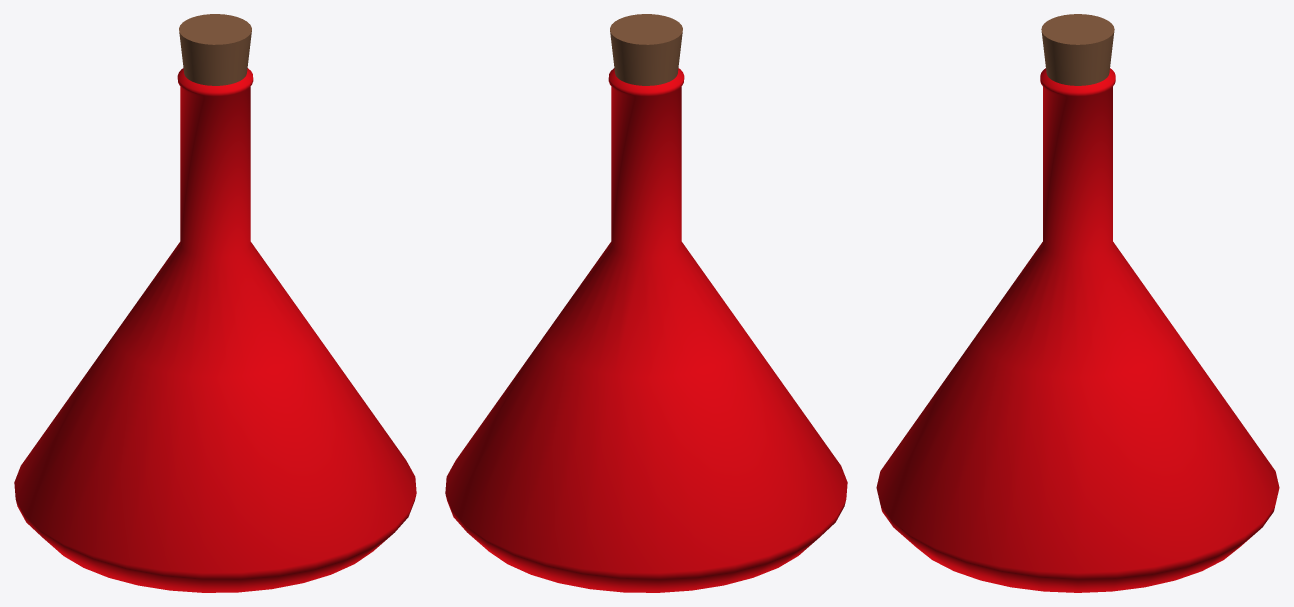
File: potion 2.fbx
The picture shows the model from 3 angles, left to right: view 1: azimuth 30°, elevation 25°; view 2: azimuth 150°, elevation 25°; view 3: azimuth 270°, elevation 25°; orthographic projection.
Visible parts, largest first — view 1: Potion 2.004; view 2: Potion 2.004; view 3: Potion 2.004.
Boxes of the visible parts, x1,y1,x2,y2 form: Potion 2.004: (14, 14, 416, 592); Potion 2.004: (445, 14, 847, 592); Potion 2.004: (876, 14, 1279, 592).
Size of the model in its own units: 11.45 by 11.45 by 15.34.
